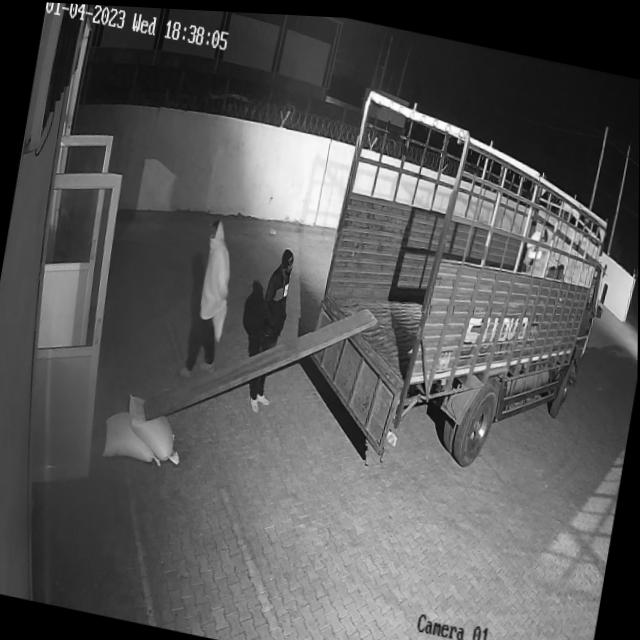sack: (120, 390, 190, 464), (100, 406, 169, 466)
